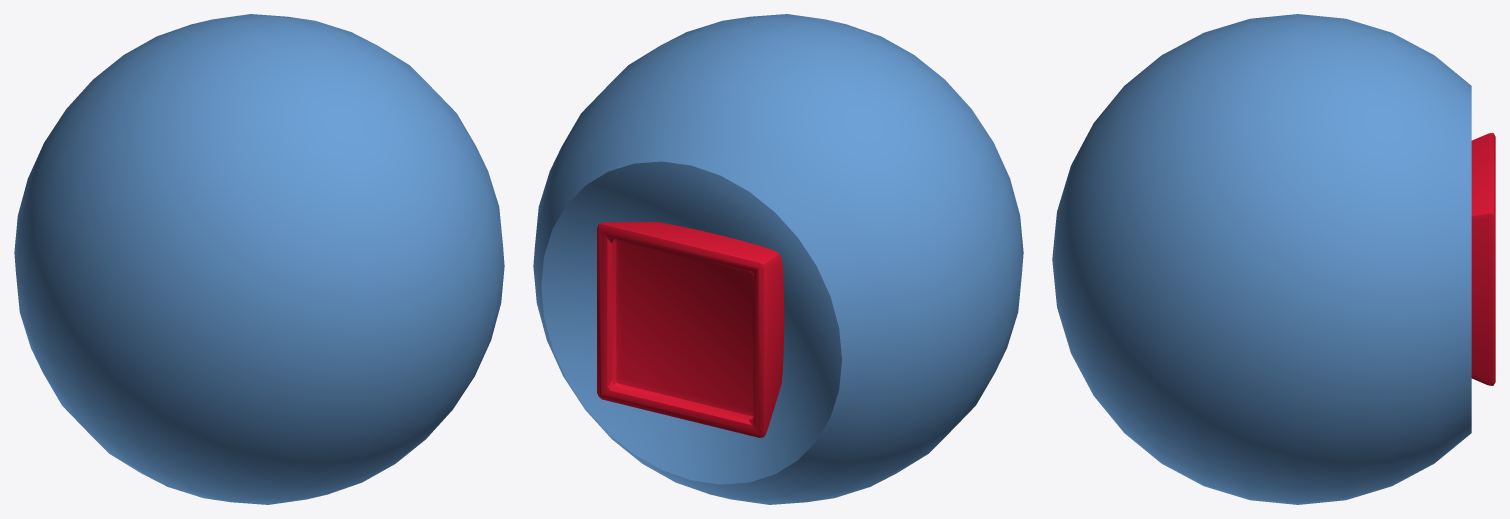
The model's file is bot.glb.
3 renders of one model, left to right at view 1: azimuth 30°, elevation 25°; view 2: azimuth 150°, elevation 25°; view 3: azimuth 270°, elevation 25°, orthographic.
Visible parts, largest first — view 1: Bot; view 2: Bot; view 3: Bot.
Part boxes in pixels (bbox=[...]): Bot: bbox=[14, 14, 504, 504]; Bot: bbox=[533, 14, 1023, 504]; Bot: bbox=[1052, 14, 1495, 504].
Size of the model in its own units: 1 by 1 by 0.9023.
